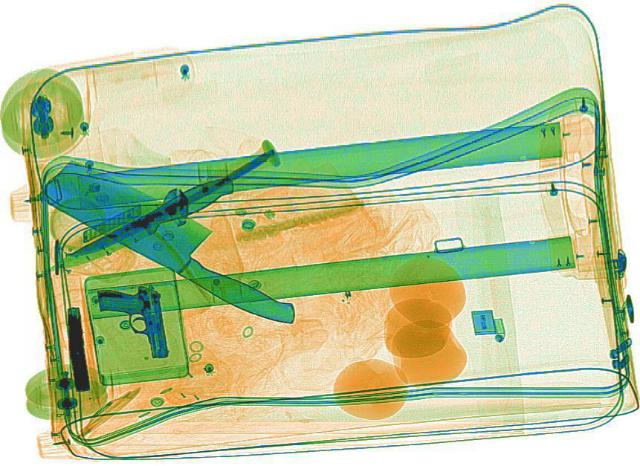Gun: (94, 281, 166, 358), (61, 305, 91, 390)
Knife: (25, 154, 329, 330), (67, 148, 276, 258), (36, 172, 242, 276)
